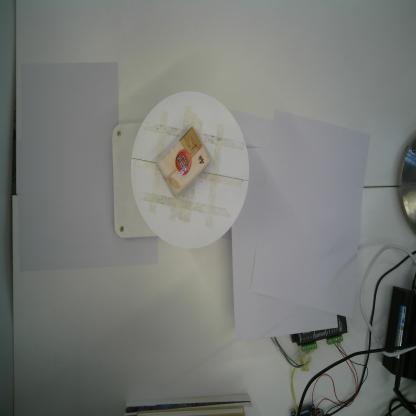Tissue: (156, 126, 212, 199)
